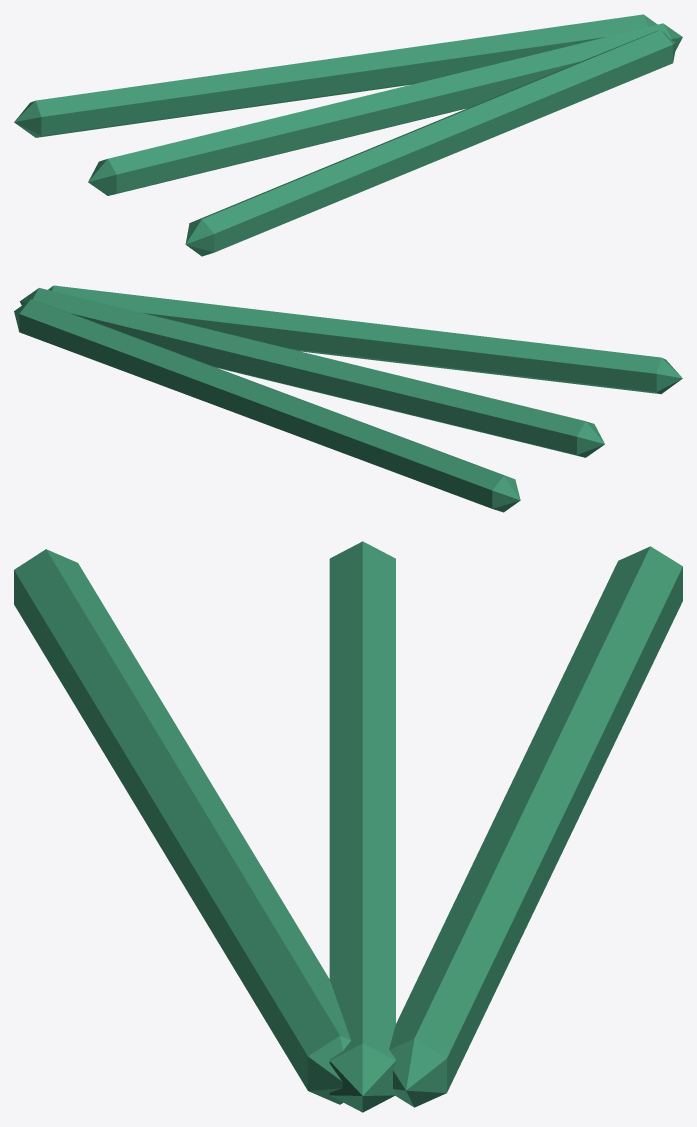
File: long-bean-raw.glb
3 views of the same model, one above another, from view 1: azimuth 30°, elevation 25°; view 2: azimuth 150°, elevation 25°; view 3: azimuth 270°, elevation 25° (orthographic). The views are drawn at different scales.
Parts seen in each view (by area): view 1: long-bean-raw; view 2: long-bean-raw; view 3: long-bean-raw.
Boxes of the visible parts, x1,y1,x2,y2 form: long-bean-raw: (14,14,682,256); long-bean-raw: (14,285,682,512); long-bean-raw: (14,541,682,1112).
Bounding box in the file's own units: 0.3 × 0.018 × 0.1576.
Materials: 1 (1 with a texture image).
